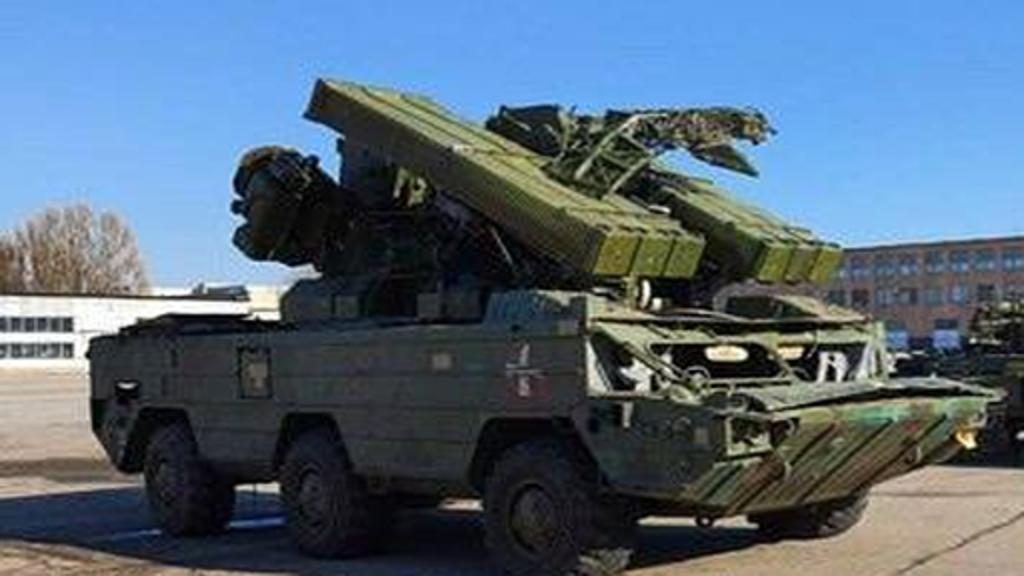MLRS: (78, 60, 982, 566)
